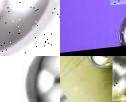ironball: (0, 0, 60, 56), (16, 56, 60, 101), (104, 5, 125, 49), (83, 56, 125, 75), (112, 56, 125, 101)
